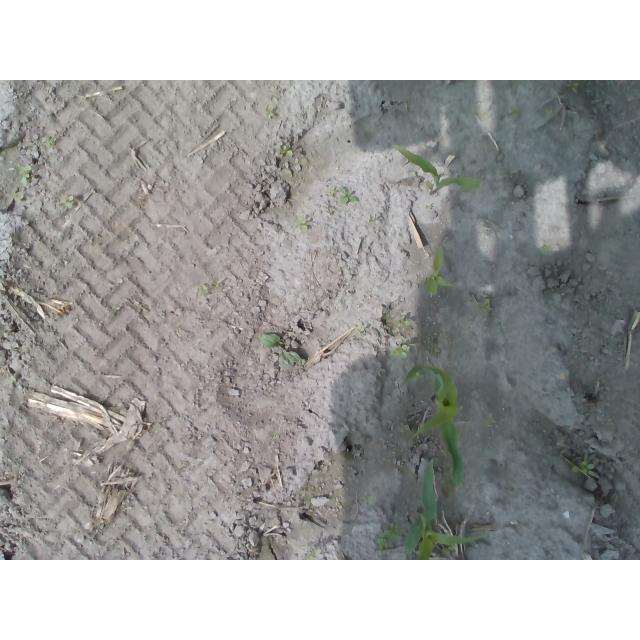Maize: (401, 366, 467, 490), (405, 461, 476, 560), (397, 147, 491, 196), (424, 246, 460, 299)
Weeds: (258, 333, 302, 367), (376, 528, 401, 549), (570, 460, 595, 476), (18, 163, 34, 185), (271, 143, 294, 158), (390, 345, 411, 360), (479, 296, 493, 317), (391, 318, 414, 330), (338, 194, 359, 207), (61, 196, 76, 209), (298, 217, 311, 232), (484, 415, 496, 430), (361, 495, 375, 505), (511, 105, 520, 119), (307, 552, 320, 561), (46, 135, 55, 145), (264, 113, 274, 120)
